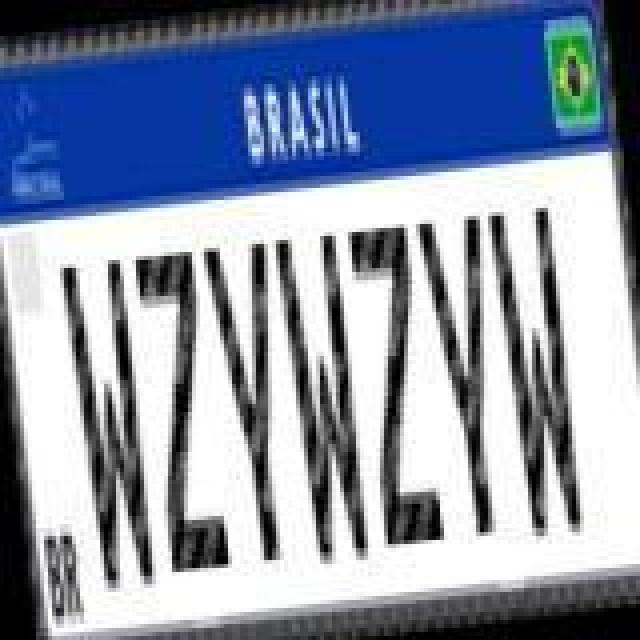W: (484, 204, 588, 548), (60, 254, 164, 594), (272, 230, 376, 570)
Y: (204, 238, 308, 570), (412, 210, 516, 542)
Z: (134, 246, 234, 578), (346, 218, 446, 550)
